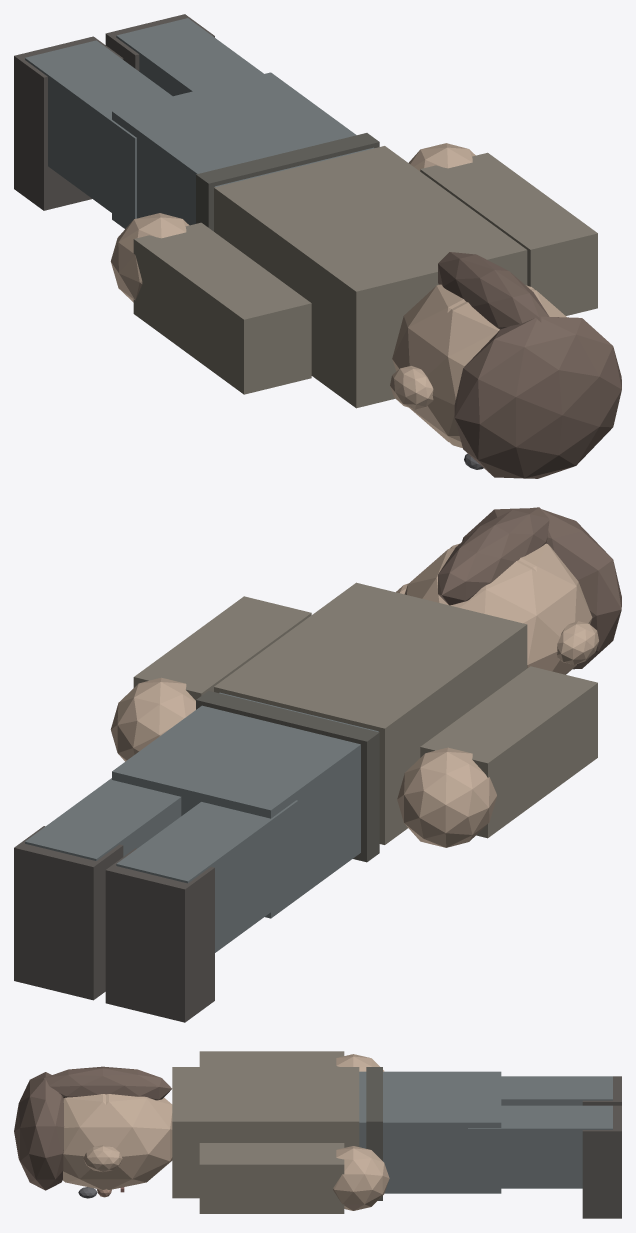
The model's file is hair_female_ponytail.glb.
The picture shows the model from 3 angles, top to bottom: view 1: azimuth 30°, elevation 25°; view 2: azimuth 150°, elevation 25°; view 3: azimuth 270°, elevation 25°; orthographic projection. The views are drawn at different scales.
Visible parts, largest first — view 1: part_00, part_19, part_06, part_01, part_04, part_12, part_10, part_02, part_05, part_20, part_18, part_03 (+4 smaller); view 2: part_00, part_01, part_06, part_05, part_04, part_11, part_12, part_07, part_10, part_03, part_20, part_19 (+4 smaller); view 3: part_00, part_01, part_12, part_10, part_03, part_19, part_02, part_11, part_04, part_20, part_13, part_06 (+4 smaller).
Boxes of the visible parts, left/top/right/bottom form: part_00: left=214, top=146, right=527, bottom=408; part_19: left=454, top=316, right=621, bottom=478; part_06: left=133, top=222, right=311, bottom=394; part_01: left=112, top=72, right=374, bottom=228; part_04: left=25, top=40, right=172, bottom=224; part_12: left=420, top=152, right=597, bottom=315; part_10: left=116, top=18, right=263, bottom=96; part_02: left=412, top=289, right=566, bottom=448; part_05: left=14, top=36, right=123, bottom=210; part_20: left=438, top=252, right=549, bottom=329; part_18: left=196, top=133, right=379, bottom=231; part_03: left=392, top=284, right=534, bottom=441; part_00: left=214, top=582, right=527, bottom=844; part_01: left=112, top=692, right=378, bottom=918; part_06: left=420, top=666, right=597, bottom=838; part_05: left=105, top=848, right=214, bottom=1022; part_04: left=116, top=800, right=298, bottom=952; part_11: left=14, top=826, right=123, bottom=1000; part_12: left=133, top=596, right=311, bottom=700; part_07: left=397, top=747, right=496, bottom=847; part_10: left=25, top=778, right=181, bottom=860; part_03: left=404, top=548, right=571, bottom=674; part_20: left=438, top=507, right=549, bottom=605; part_19: left=462, top=508, right=621, bottom=669; part_00: left=172, top=1067, right=359, bottom=1198; part_01: left=359, top=1071, right=501, bottom=1193; part_12: left=199, top=1143, right=344, bottom=1213; part_10: left=468, top=1105, right=612, bottom=1188; part_03: left=86, top=1094, right=172, bottom=1189; part_19: left=14, top=1072, right=64, bottom=1190; part_02: left=63, top=1094, right=125, bottom=1189; part_11: left=582, top=1105, right=621, bottom=1218; part_04: left=501, top=1076, right=612, bottom=1105; part_20: left=42, top=1066, right=171, bottom=1100; part_13: left=333, top=1146, right=389, bottom=1210; part_06: left=199, top=1051, right=344, bottom=1066.
Size of the model in its own units: 0.93 by 0.47 by 2.02.
